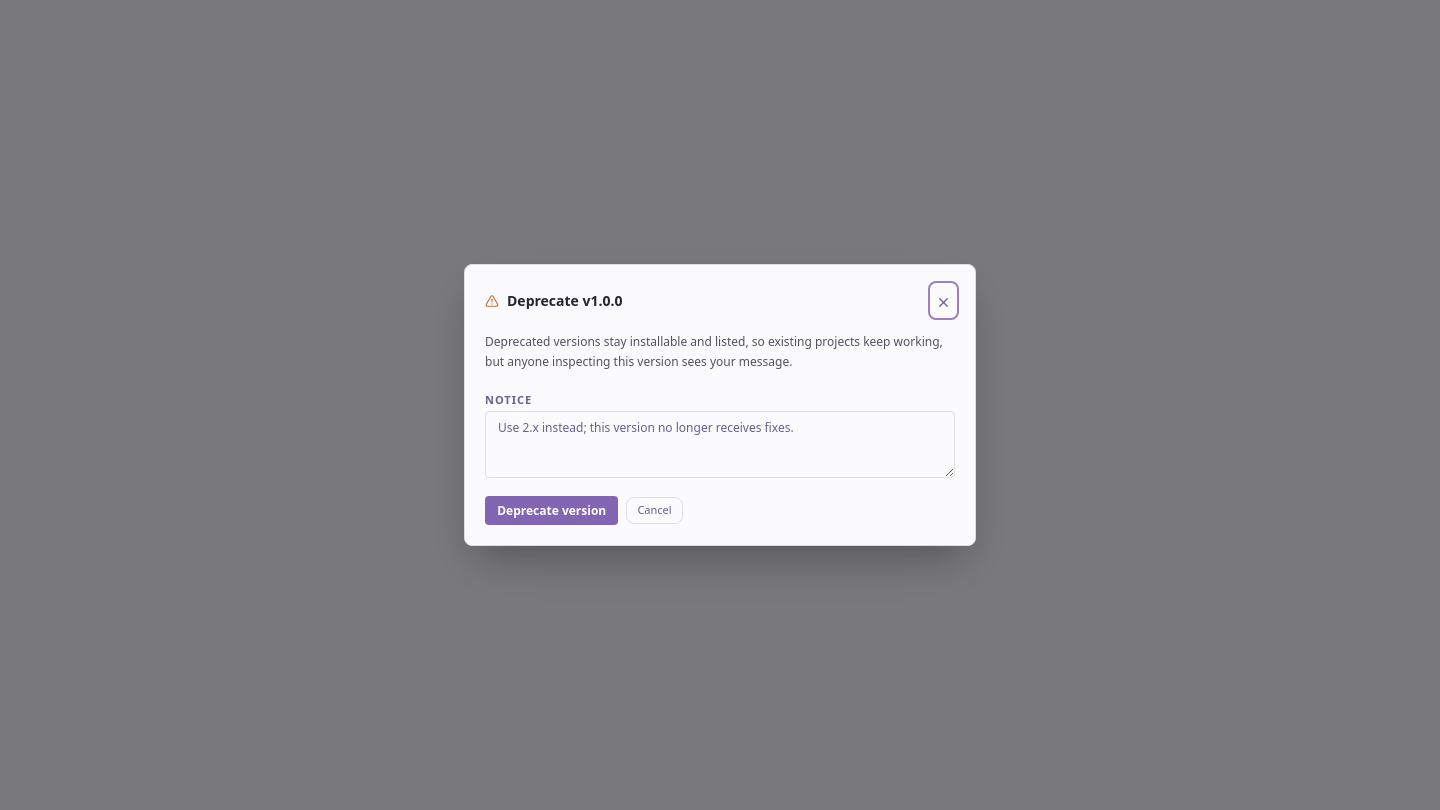
Scenario: DeprecateVersionModal › requires a non-empty notice
Click the button "Deprecate version": x=552, y=511 [485,496,618,525]
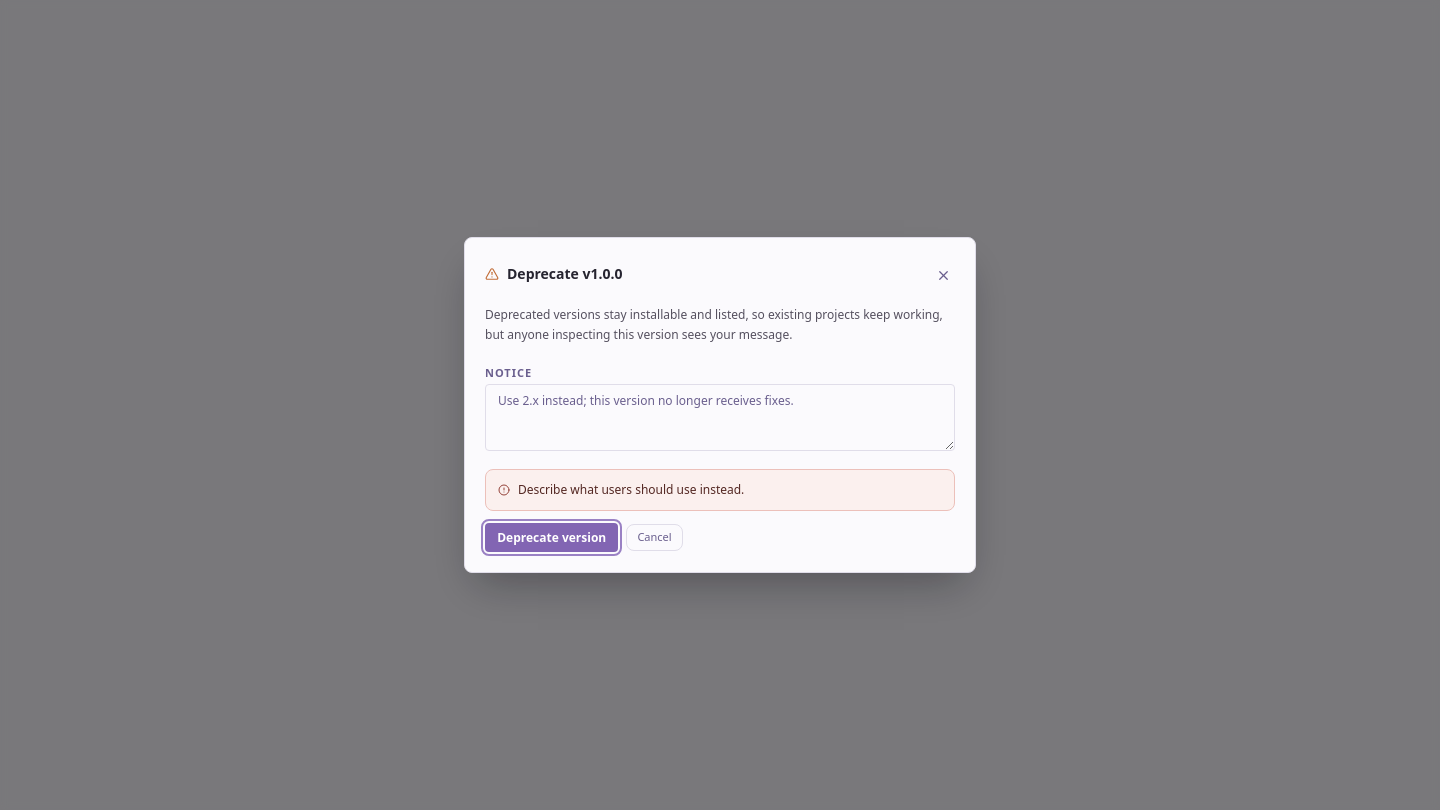
Expected: the text "Describe what users should use instead." is shown, [518,482,744,498]
